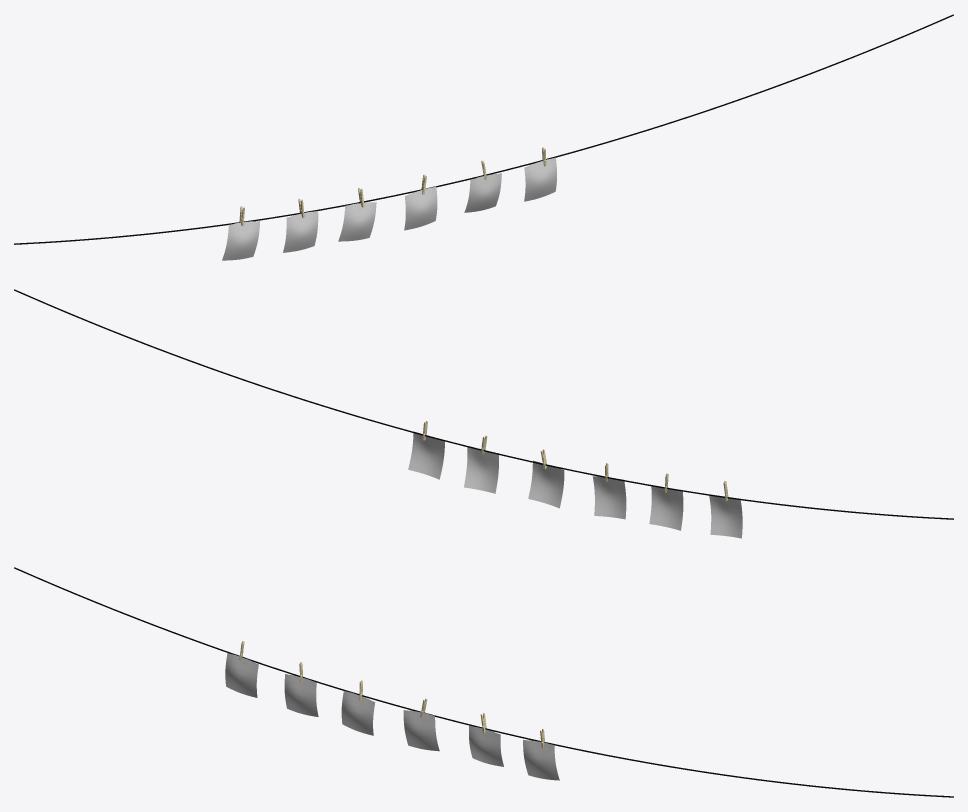
File: elrond-mafia-photo.glb
3 renders of one model, top to bottom at view 1: azimuth 30°, elevation 25°; view 2: azimuth 150°, elevation 25°; view 3: azimuth 330°, elevation 25°, orthographic.
Parts seen in each view (by area): view 1: Catenary, team-photo2, team-photo6, team-photo1, team-photo3, team-photo5, team-photo4; view 2: Catenary, team-photo4, team-photo3, team-photo1, team-photo2, team-photo5, team-photo6; view 3: Catenary, team-photo1, team-photo3, team-photo5, team-photo6, team-photo2, team-photo4.
Boxes of the visible parts, x1,y1,x2,y2 form: Catenary: [14, 14, 953, 244]; team-photo2: [338, 202, 376, 241]; team-photo6: [222, 221, 260, 260]; team-photo1: [283, 211, 318, 252]; team-photo3: [404, 186, 437, 230]; team-photo5: [524, 157, 556, 201]; team-photo4: [464, 173, 501, 212]; Catenary: [14, 289, 953, 519]; team-photo4: [464, 447, 498, 493]; team-photo3: [528, 460, 564, 508]; team-photo1: [649, 486, 683, 530]; team-photo2: [592, 476, 626, 519]; team-photo5: [408, 431, 444, 479]; team-photo6: [709, 495, 742, 538]; Catenary: [14, 567, 953, 797]; team-photo1: [284, 674, 318, 716]; team-photo3: [403, 710, 439, 751]; team-photo5: [523, 740, 559, 780]; team-photo6: [225, 653, 258, 697]; team-photo2: [341, 690, 375, 735]; team-photo4: [469, 725, 503, 766].
Bounding box in the file's own units: 23.74 × 2.04 × 0.2779.
